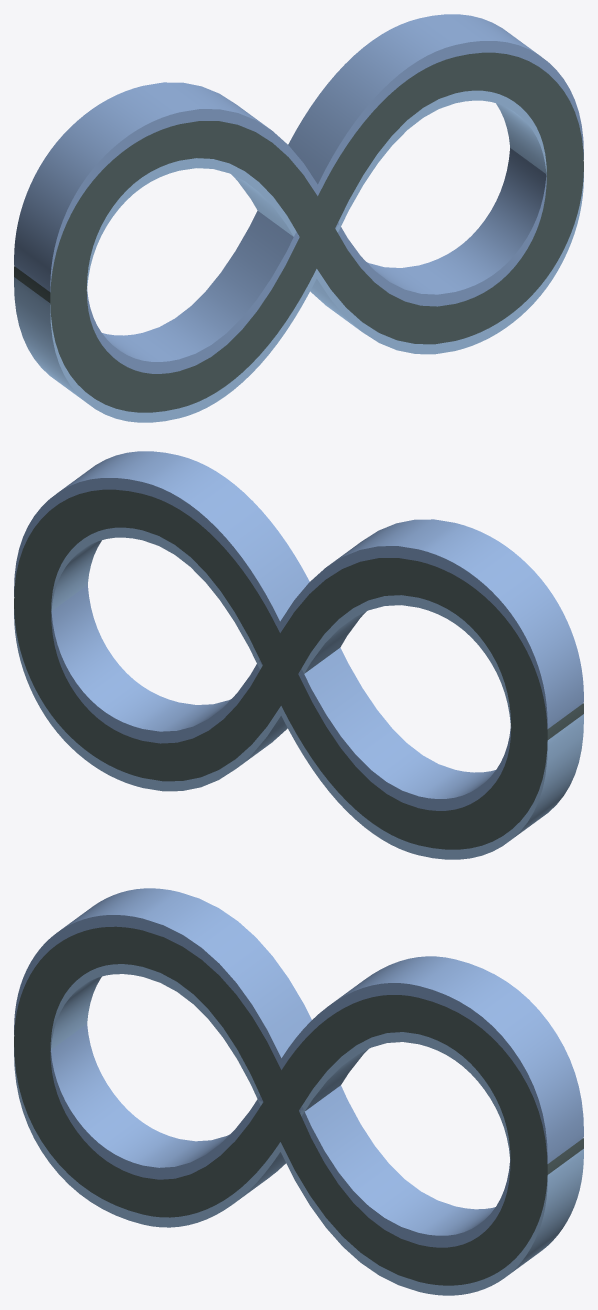
File: Infinity_001.gltf
3 views of the same model, one above another, from view 1: azimuth 30°, elevation 25°; view 2: azimuth 150°, elevation 25°; view 3: azimuth 330°, elevation 25° (orthographic).
Parts seen in each view (by area): view 1: Base1, ShadowTop1:PIV, ShadowBottom1:PIV; view 2: Base1, ShadowTop1:PIV, ShadowBottom1:PIV; view 3: Base1, ShadowTop1:PIV, ShadowBottom1:PIV.
Boxes of the visible parts, x1,y1,x2,y2 form: Base1: (14,52,583,412); ShadowTop1:PIV: (14,14,583,373); ShadowBottom1:PIV: (14,90,583,422); Base1: (14,489,583,849); ShadowTop1:PIV: (14,451,583,810); ShadowBottom1:PIV: (14,527,583,859); Base1: (14,926,583,1285); ShadowTop1:PIV: (14,888,583,1247); ShadowBottom1:PIV: (14,964,583,1295).
Size of the model in its own units: 5.94 by 3.25 by 0.7.
